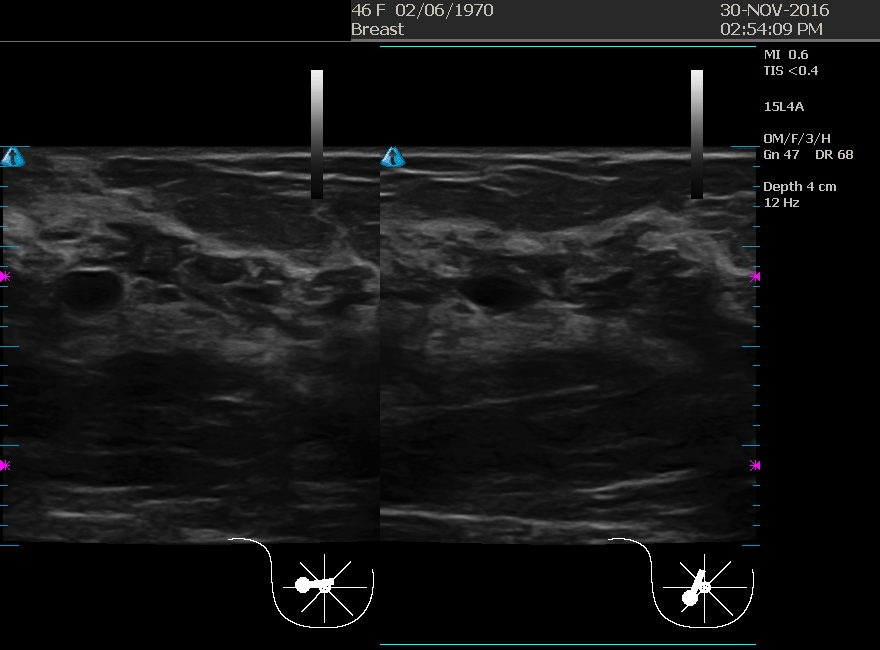BIRADS_2: (21, 207, 213, 399), (389, 208, 581, 400)
